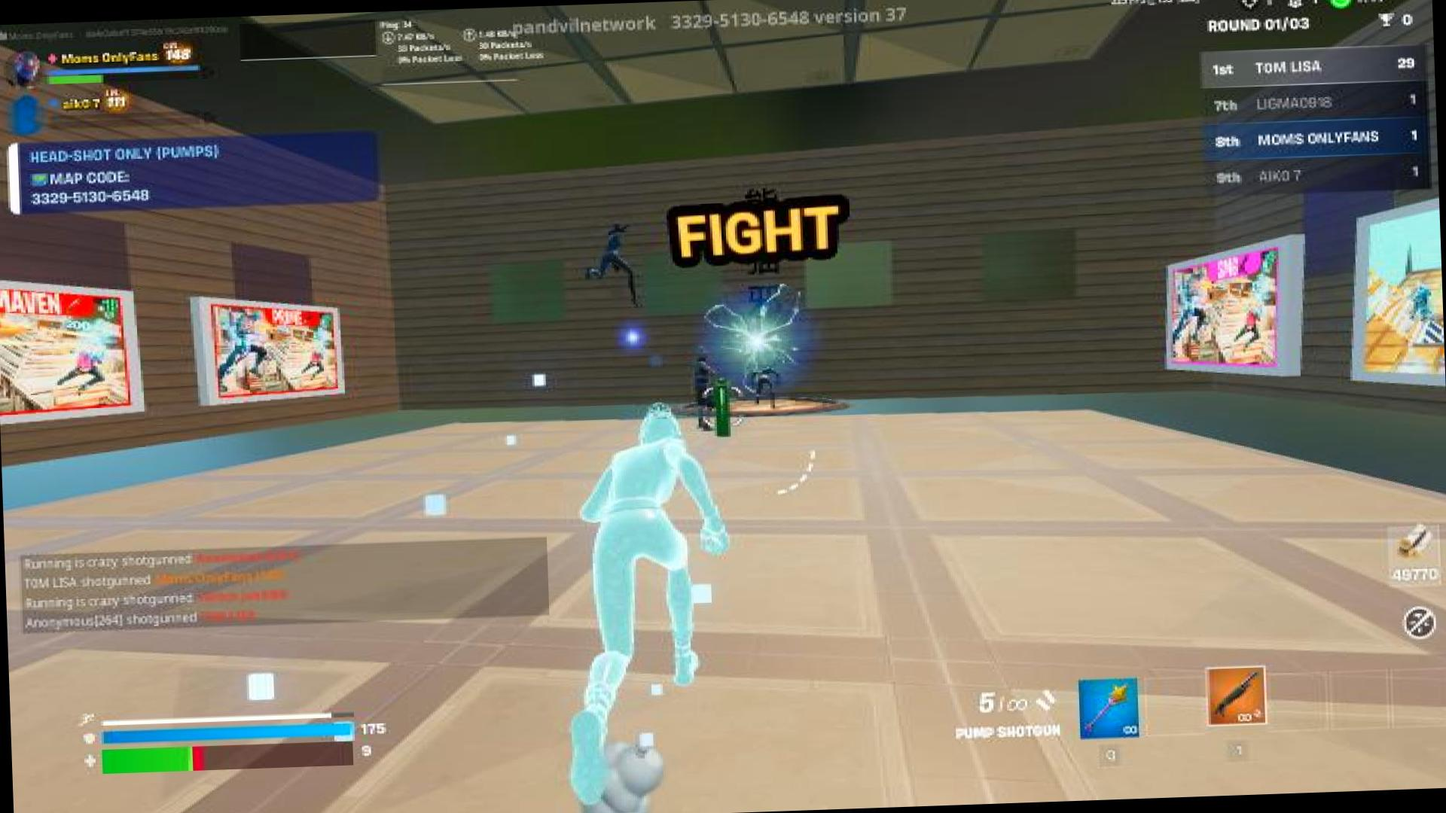player: (587, 207, 645, 314), (678, 342, 726, 437), (744, 357, 791, 411)
